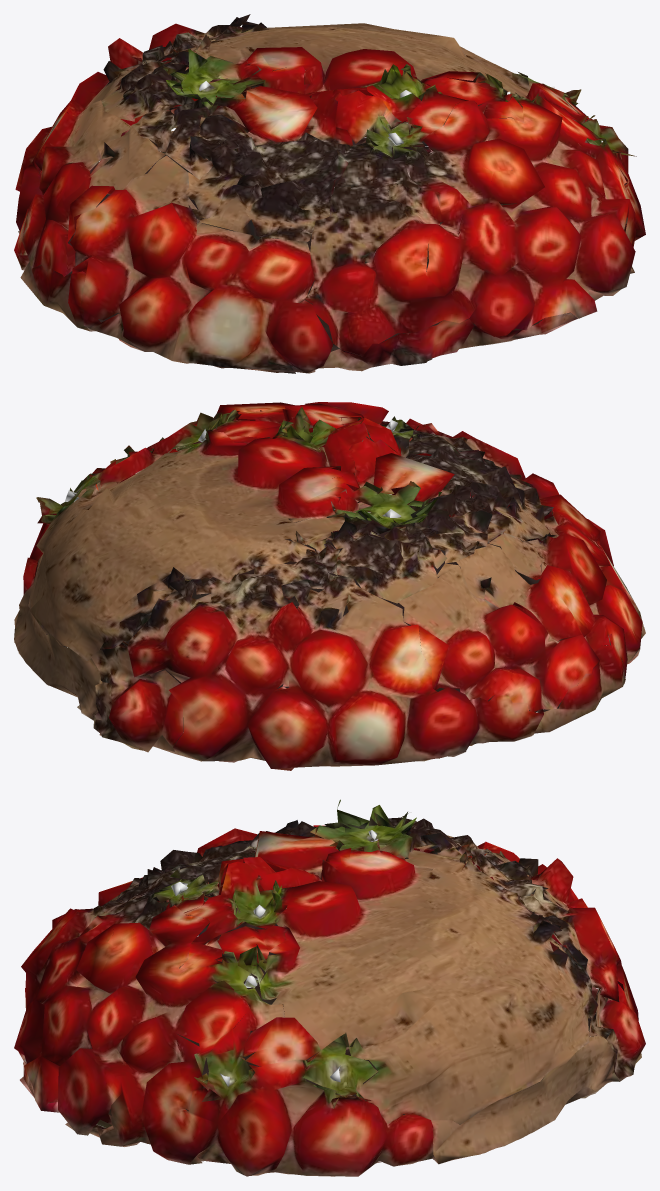
The model's file is choc_cake.glb.
3 renders of one model, top to bottom at view 1: azimuth 30°, elevation 25°; view 2: azimuth 150°, elevation 25°; view 3: azimuth 270°, elevation 25°, orthographic.
Visible parts, largest first — view 1: strawberry_chocolate_cake; view 2: strawberry_chocolate_cake; view 3: strawberry_chocolate_cake.
Boxes of the visible parts, x1,y1,x2,y2 form: strawberry_chocolate_cake: (14,14,645,373); strawberry_chocolate_cake: (14,402,645,770); strawberry_chocolate_cake: (14,799,645,1176).
Size of the model in its own units: 0.2433 by 0.0789 by 0.2404.
1 material, 1 textured.
